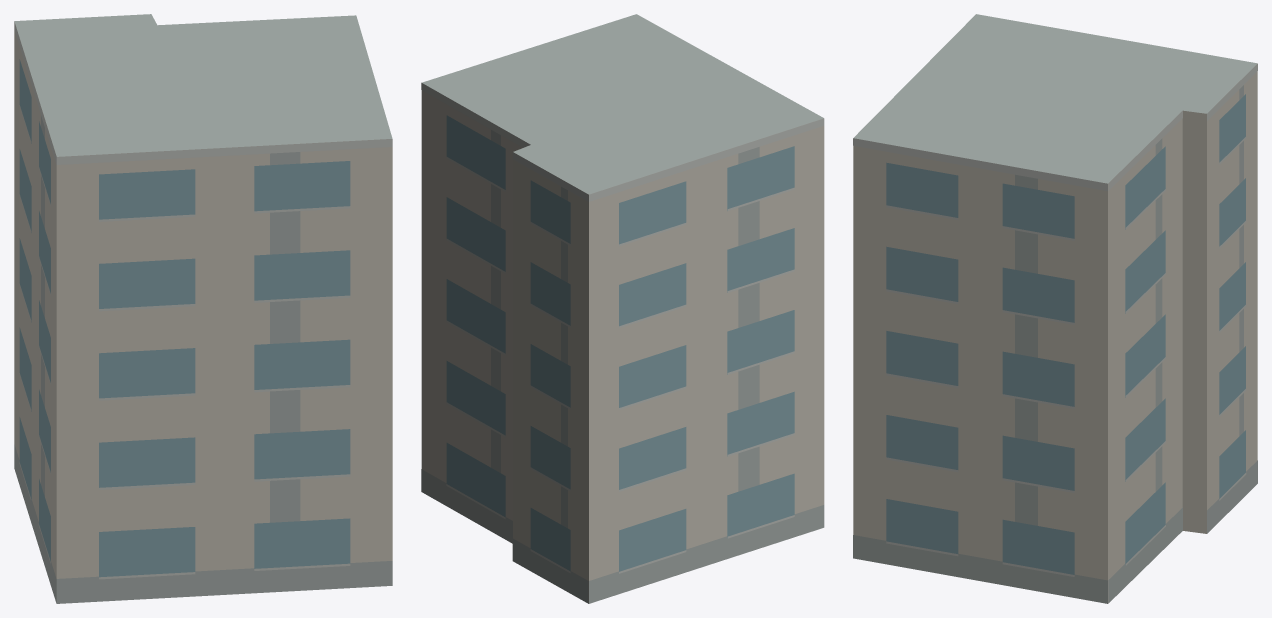
Rendered from survey-upis-32900345.glb.
The picture shows the model from 3 angles, left to right: view 1: azimuth 30°, elevation 25°; view 2: azimuth 150°, elevation 25°; view 3: azimuth 270°, elevation 25°; orthographic projection. The views are drawn at different scales.
Visible parts, largest first — view 1: survey-upis-32900345.tmp; view 2: survey-upis-32900345.tmp; view 3: survey-upis-32900345.tmp.
Part boxes in pixels (x1=…): survey-upis-32900345.tmp: x1=14, y1=14, x2=392, y2=603; survey-upis-32900345.tmp: x1=421, y1=14, x2=824, y2=603; survey-upis-32900345.tmp: x1=853, y1=14, x2=1257, y2=603.
Size of the model in its own units: 11.61 by 13.4 by 11.7.
